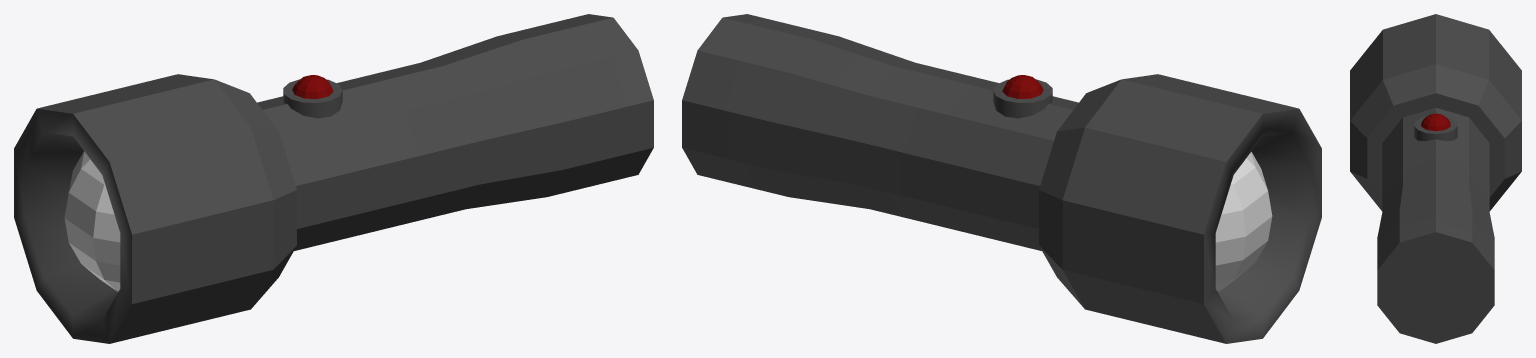
File: flashlight.fbx
3 views of the same model, side by side, from view 1: azimuth 30°, elevation 25°; view 2: azimuth 150°, elevation 25°; view 3: azimuth 270°, elevation 25° (orthographic). The views are drawn at different scales.
Visible parts, largest first — view 1: pSphere3; view 2: pSphere3; view 3: pSphere3.
Boxes of the visible parts, bbox=[...] form: pSphere3: bbox=[14, 14, 653, 343]; pSphere3: bbox=[682, 14, 1321, 343]; pSphere3: bbox=[1350, 14, 1521, 343].
Size of the model in its own units: 10.85 by 4.32 by 4.11.
